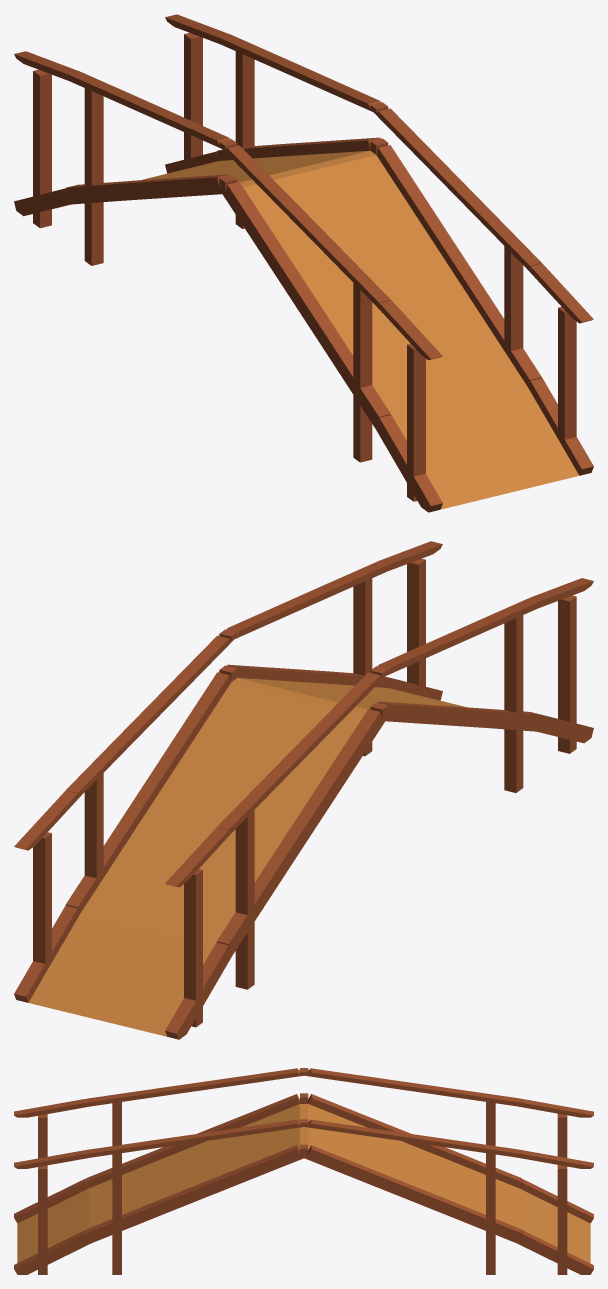
The model's file is Köprü.fbx.
3 views of the same model, one above another, from view 1: azimuth 30°, elevation 25°; view 2: azimuth 150°, elevation 25°; view 3: azimuth 270°, elevation 25° (orthographic). The views are drawn at different scales.
Parts seen in each view (by area): view 1: Group2, Component_5_2, Component_5_1, Component_6_7, Component_6_6, Component_6_8, Component_6_5, Component_6_1, Component_6_4, Component_6_2, Component_6_3; view 2: Group2, Component_5_2, Component_5_1, Component_6_6, Component_6_7, Component_6_5, Component_6_8, Component_6_4, Component_6_1, Component_6_3, Component_6_2; view 3: Group2, Component_5_1, Component_5_2, Component_6_3, Component_6_2, Component_6_4, Component_6_1, Component_6_8, Component_6_6, Component_6_7, Component_6_5.
Part boxes in pixels (<box>): Group2: <box>52,150,579,509</box>; Component_5_2: <box>14,51,442,512</box>; Component_5_1: <box>165,14,593,475</box>; Component_6_7: <box>84,86,103,265</box>; Component_6_6: <box>353,282,372,462</box>; Component_6_8: <box>33,69,51,228</box>; Component_6_5: <box>407,343,425,501</box>; Component_6_1: <box>558,307,576,447</box>; Component_6_4: <box>184,33,202,169</box>; Component_6_2: <box>504,245,523,360</box>; Component_6_3: <box>235,49,254,228</box>; Group2: <box>28,678,557,1036</box>; Component_5_2: <box>165,578,593,1039</box>; Component_5_1: <box>14,541,442,1002</box>; Component_6_6: <box>504,614,523,792</box>; Component_6_7: <box>235,810,254,989</box>; Component_6_5: <box>558,595,576,753</box>; Component_6_8: <box>184,869,202,1027</box>; Component_6_4: <box>33,832,51,973</box>; Component_6_1: <box>407,558,425,696</box>; Component_6_3: <box>84,773,103,887</box>; Component_6_2: <box>353,575,372,756</box>; Group2: <box>17,1104,590,1263</box>; Component_5_1: <box>14,1119,593,1274</box>; Component_5_2: <box>14,1068,593,1223</box>; Component_6_3: <box>486,1152,495,1274</box>; Component_6_2: <box>112,1152,121,1274</box>; Component_6_4: <box>557,1165,567,1274</box>; Component_6_1: <box>38,1165,47,1274</box>; Component_6_8: <box>557,1113,567,1157</box>; Component_6_6: <box>112,1101,121,1145</box>; Component_6_7: <box>486,1101,495,1145</box>; Component_6_5: <box>38,1114,47,1158</box>.
Size of the model in its own units: 271 by 346 by 1201.
